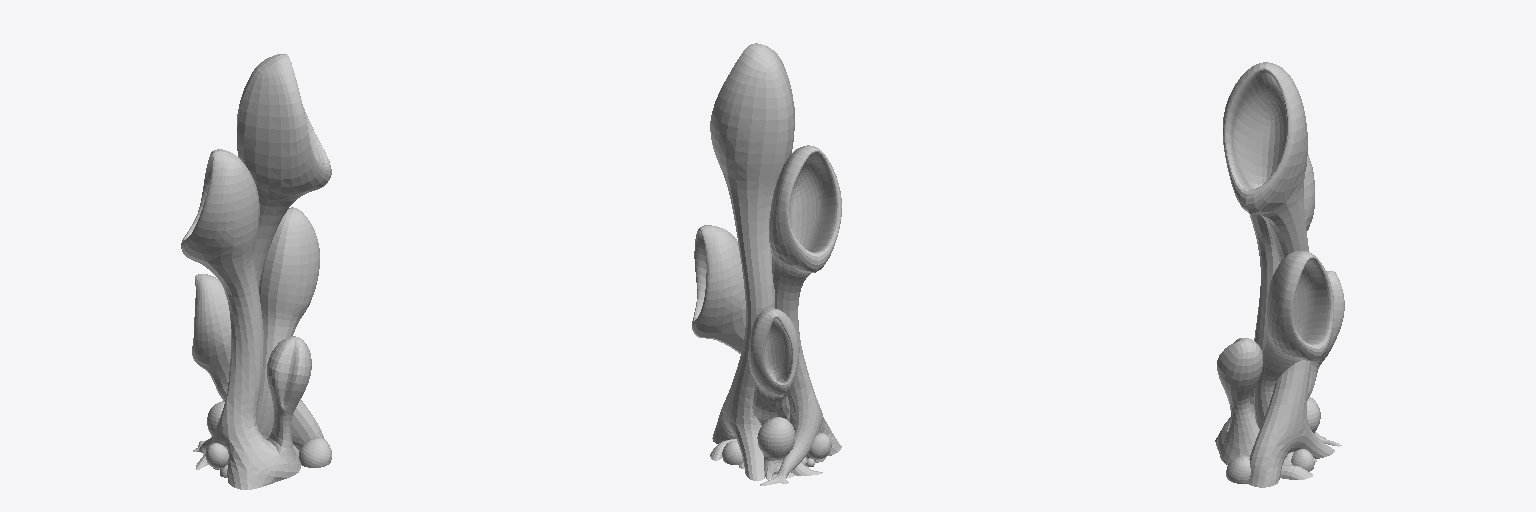
File: tree7.obj
3 renders of one model, left to right at view 1: azimuth 30°, elevation 25°; view 2: azimuth 150°, elevation 25°; view 3: azimuth 270°, elevation 25°, orthographic.
Parts seen in each view (by area): view 1: AlienPlant01.002; view 2: AlienPlant01.002; view 3: AlienPlant01.002.
Boxes of the visible parts, box(x1,y1,x2,y2) form: AlienPlant01.002: box(181, 54, 331, 489); AlienPlant01.002: box(692, 43, 841, 485); AlienPlant01.002: box(1215, 62, 1344, 487).
Bounding box in the file's own units: 7.49 × 21.27 × 6.19.